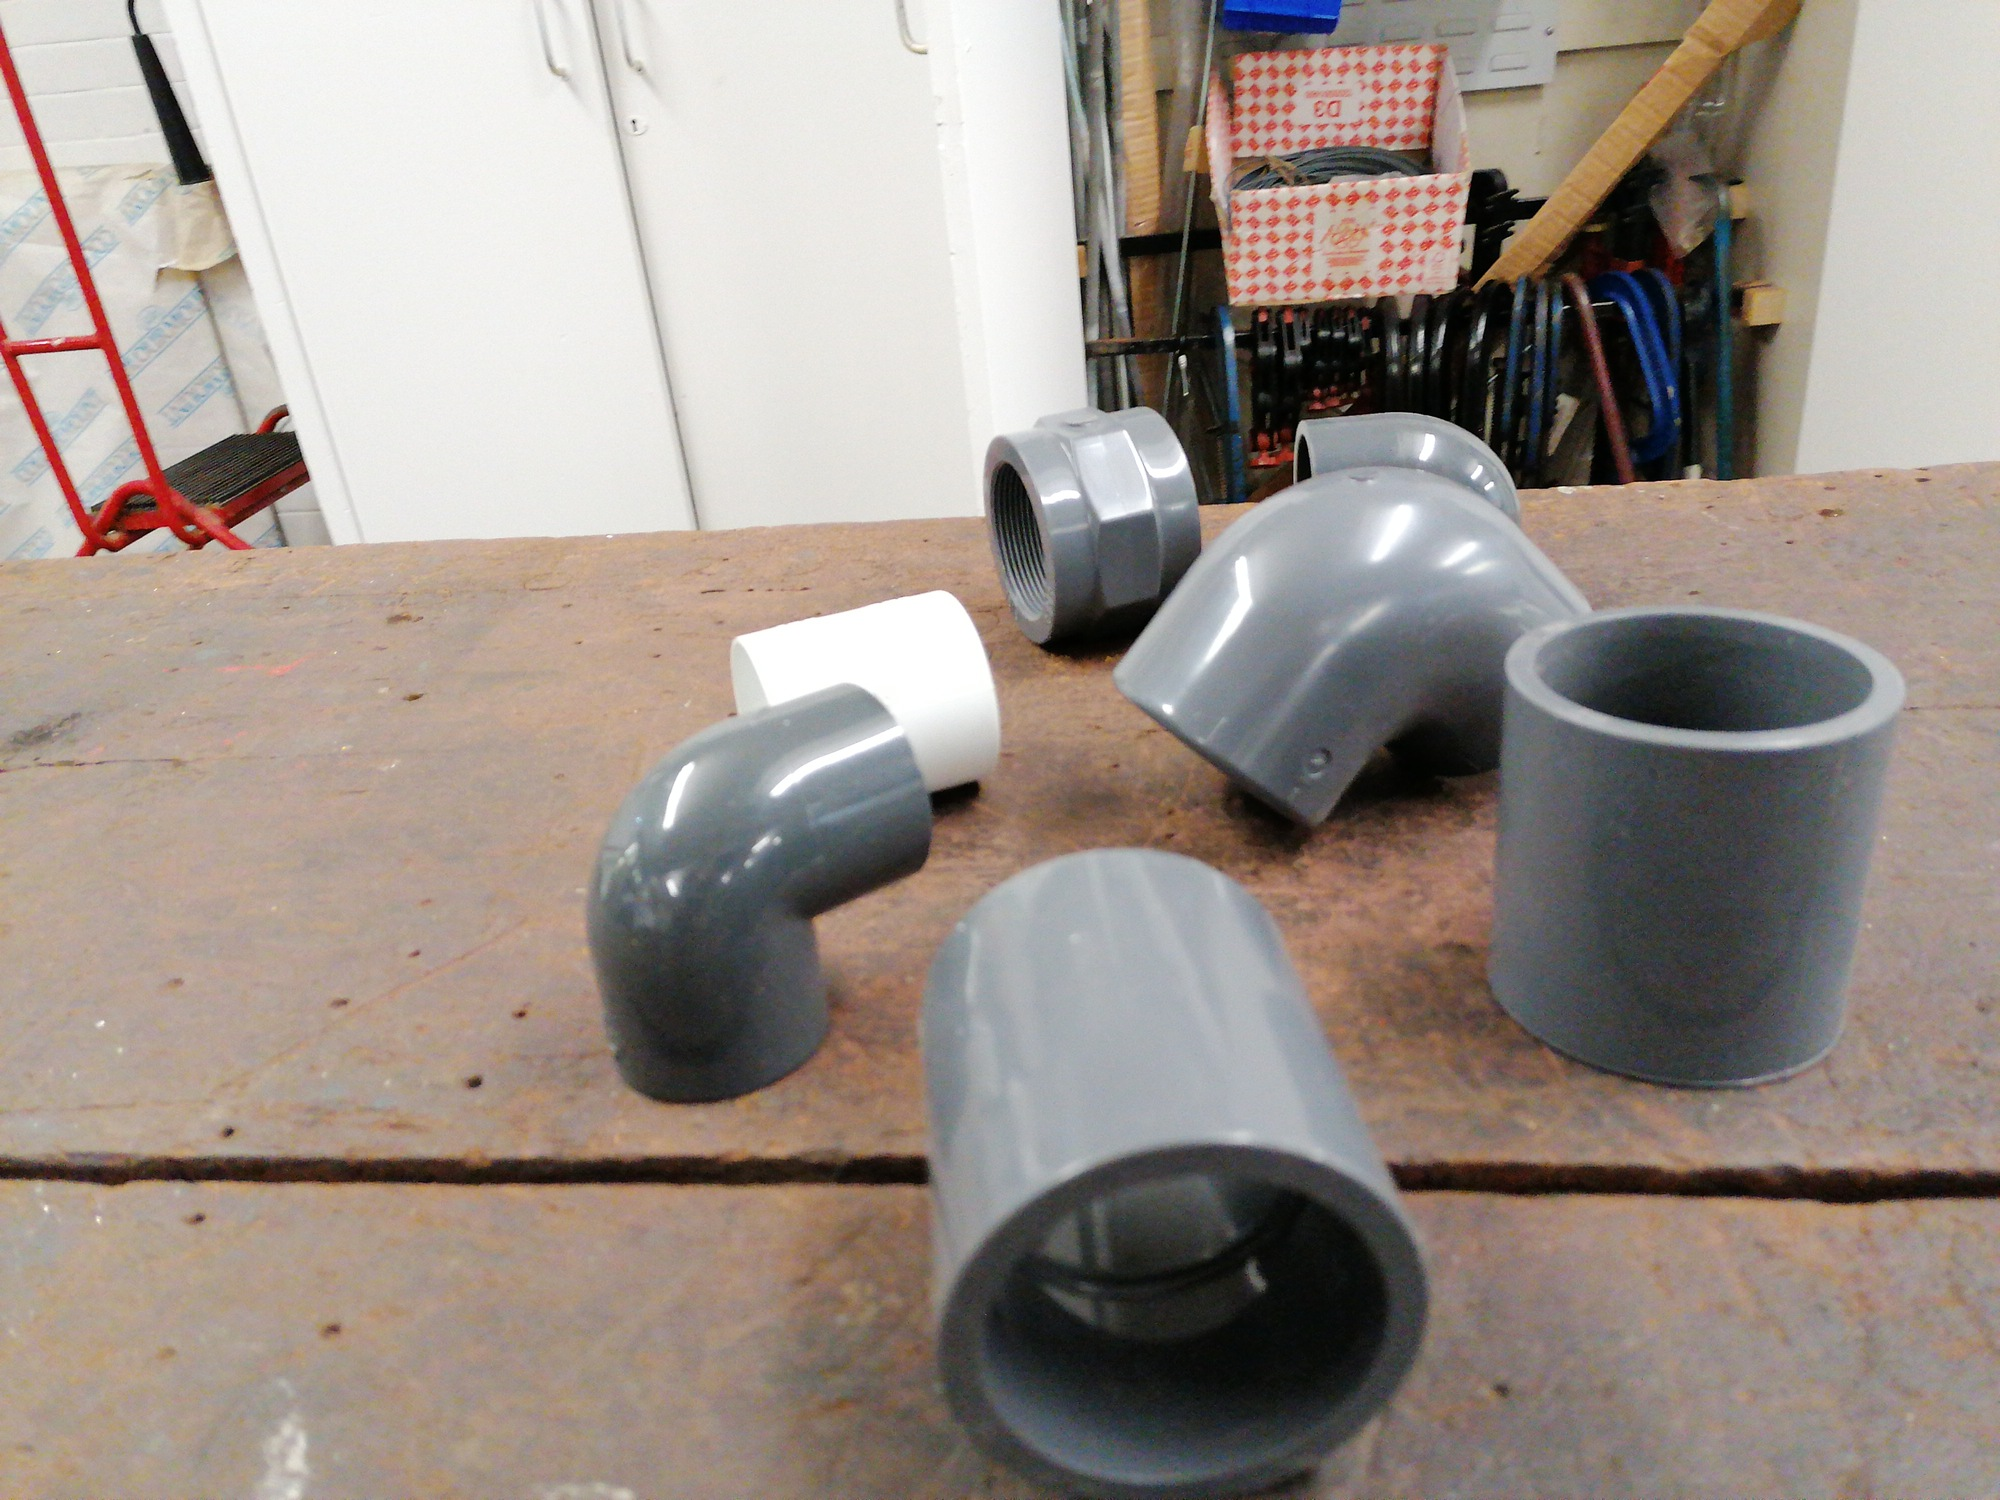nut: (976, 408, 1205, 649)
pipe: (910, 846, 1433, 1500), (1485, 597, 1910, 1090), (1110, 457, 1598, 830), (583, 682, 931, 1105), (728, 589, 1003, 800), (1290, 408, 1523, 525)
